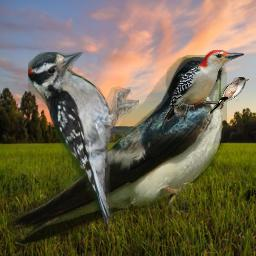Cuckoo: (208, 77, 249, 115)
Swallow: (7, 55, 227, 249)
Woodpecker: (28, 52, 139, 225), (163, 50, 244, 122)
